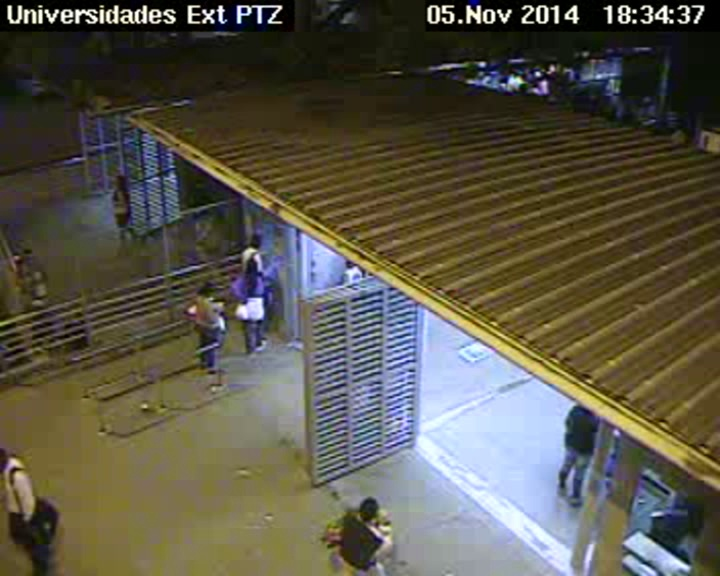person: (575, 387, 598, 414), (358, 496, 382, 520), (1, 445, 17, 466), (199, 280, 216, 298), (111, 172, 128, 190), (244, 257, 260, 273), (249, 232, 263, 248), (198, 203, 211, 215), (29, 261, 40, 272), (22, 249, 32, 259)
